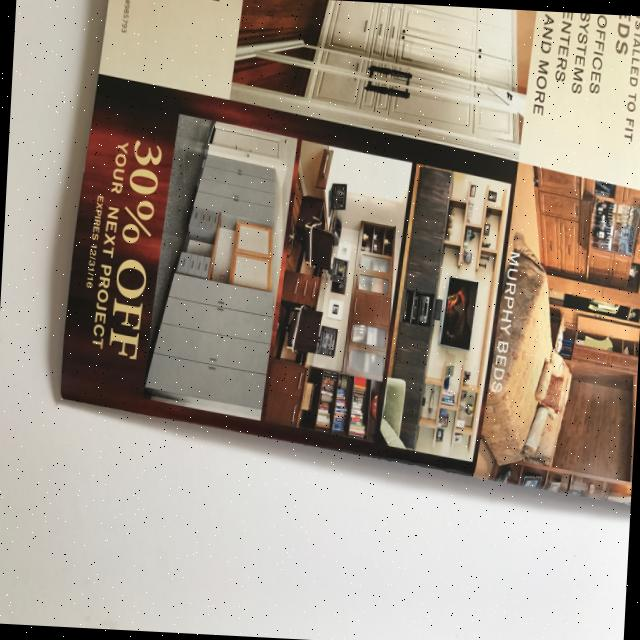paper: (52, 0, 640, 505)
